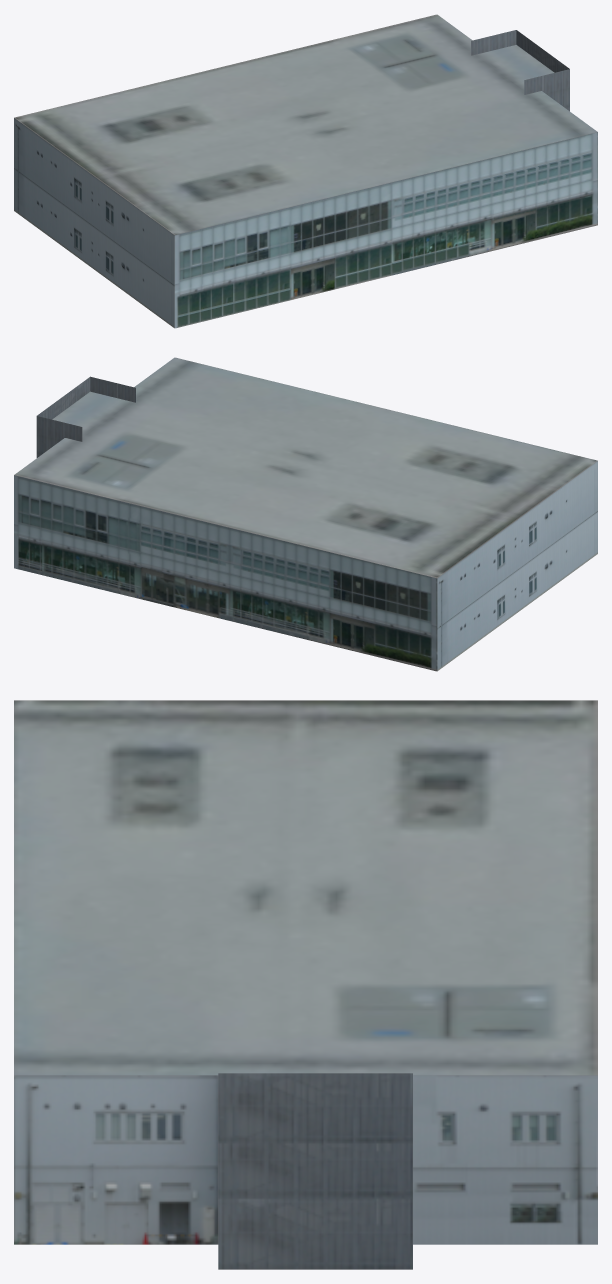
Rendered from RJTF-terminal.glb.
3 views of the same model, one above another, from view 1: azimuth 30°, elevation 25°; view 2: azimuth 150°, elevation 25°; view 3: azimuth 270°, elevation 25° (orthographic). The views are drawn at different scales.
Visible parts, largest first — view 1: Cube; view 2: Cube; view 3: Cube.
Boxes of the visible parts, box(x1,y1,x2,y2) form: Cube: box(14, 14, 597, 328); Cube: box(14, 357, 597, 671); Cube: box(14, 700, 597, 1269).
Size of the model in its own units: 40.54 by 9.28 by 25.
Materials: 1 (1 with a texture image).
